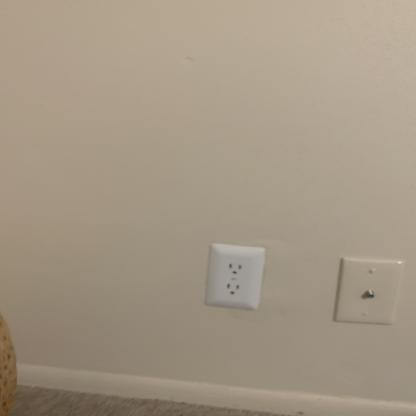OUTLET: (207, 242, 262, 310)
